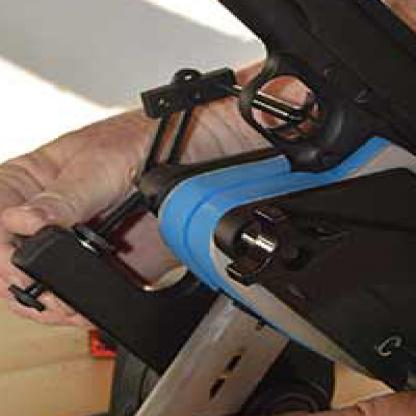gun: (100, 0, 414, 366)
